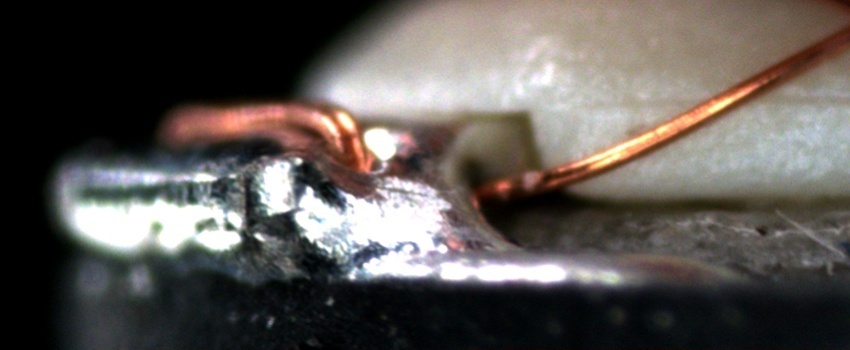DL: (594, 73, 849, 128)
TE: (154, 96, 372, 175)
